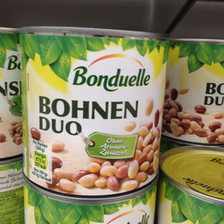beans: (16, 24, 163, 195), (166, 25, 224, 140)
